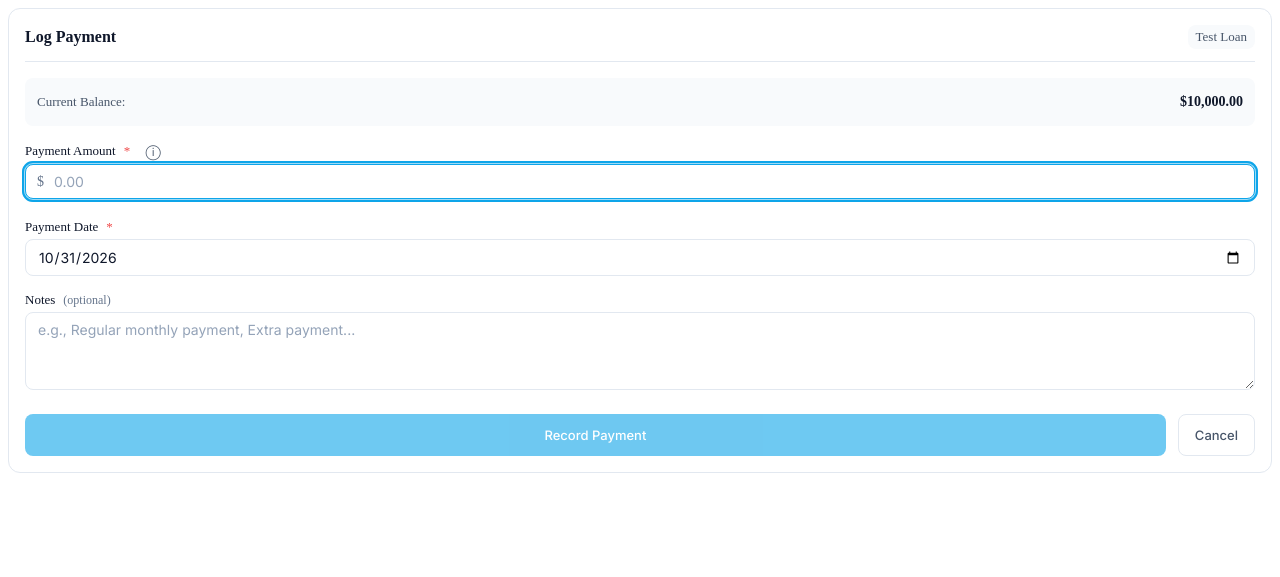
Test case: LoanPaymentForm › should display and clear errors
The image size is (1280, 577).
Fill in amount
Type "500" into the field labelled "Payment Amount * ⓘ" at (640, 182), box x1=25 y1=164 x2=1255 y2=199
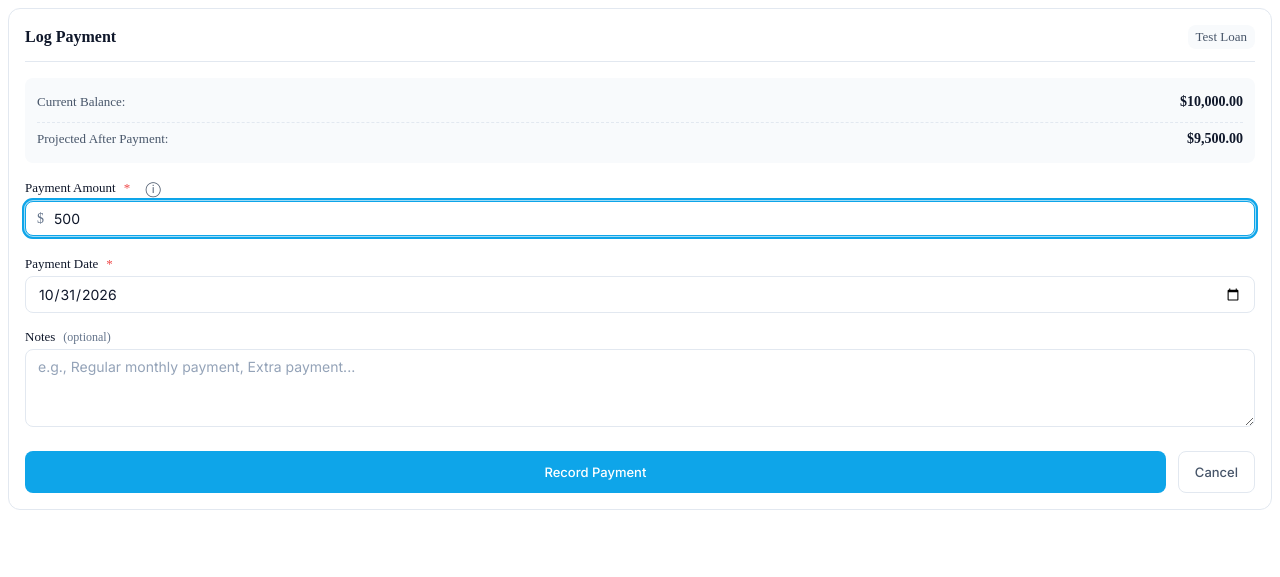
Submit form
Click the button "Record Payment" at (595, 472), box x1=25 y1=451 x2=1166 y2=493
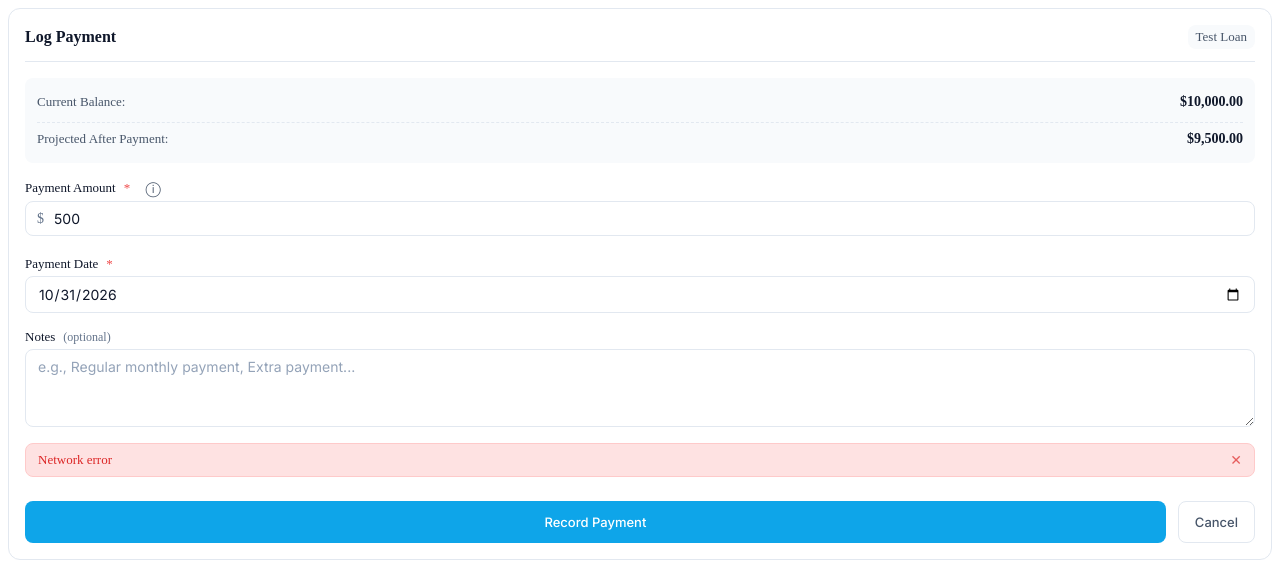
Now the message "Network error ✕" is shown, box x1=25 y1=443 x2=1255 y2=477
Clear error
Click the button named "clear error" at (1236, 460), box x1=1230 y1=453 x2=1242 y2=467
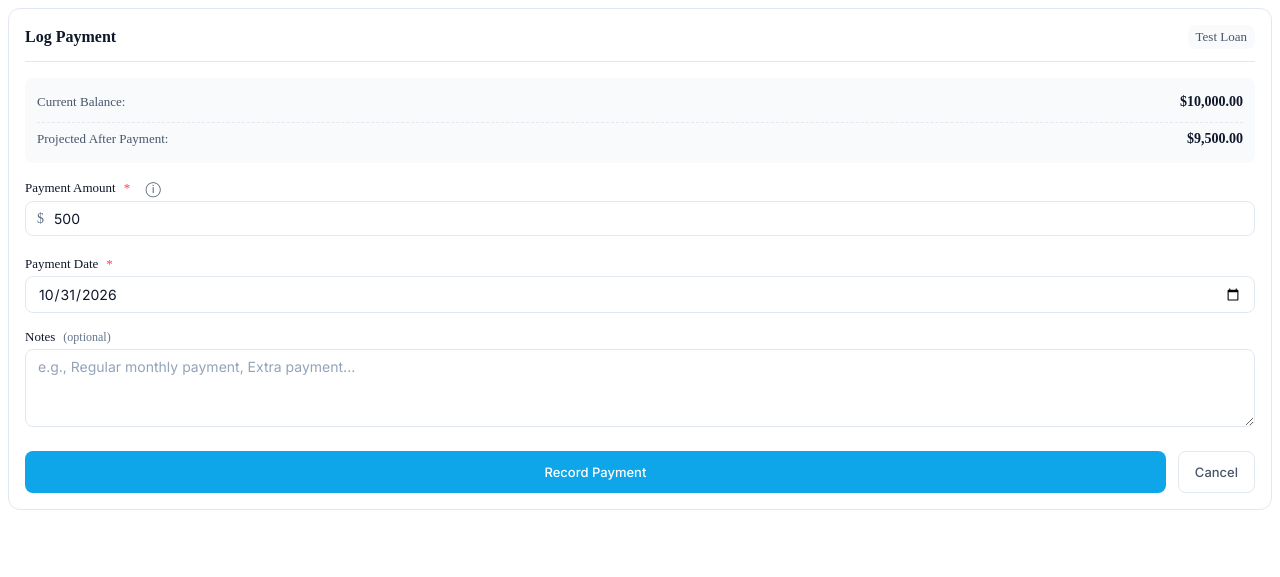
Now the message "Network error ✕" is gone
